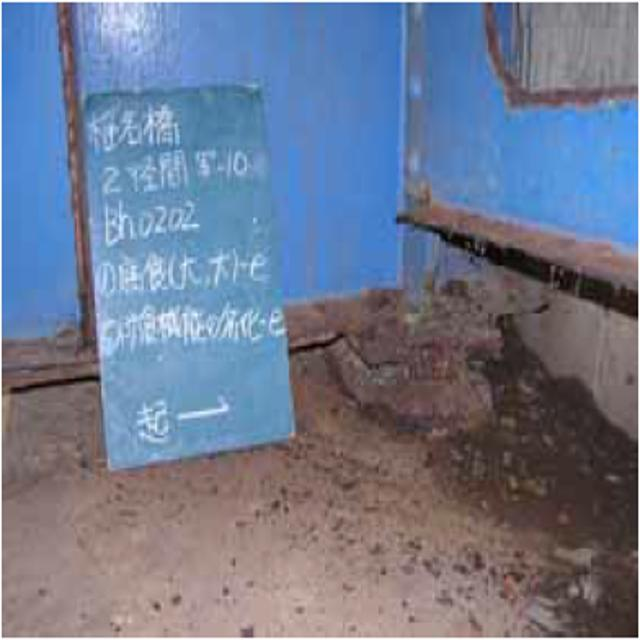corrosion: (313, 183, 626, 437), (50, 16, 119, 353), (481, 18, 636, 118)
